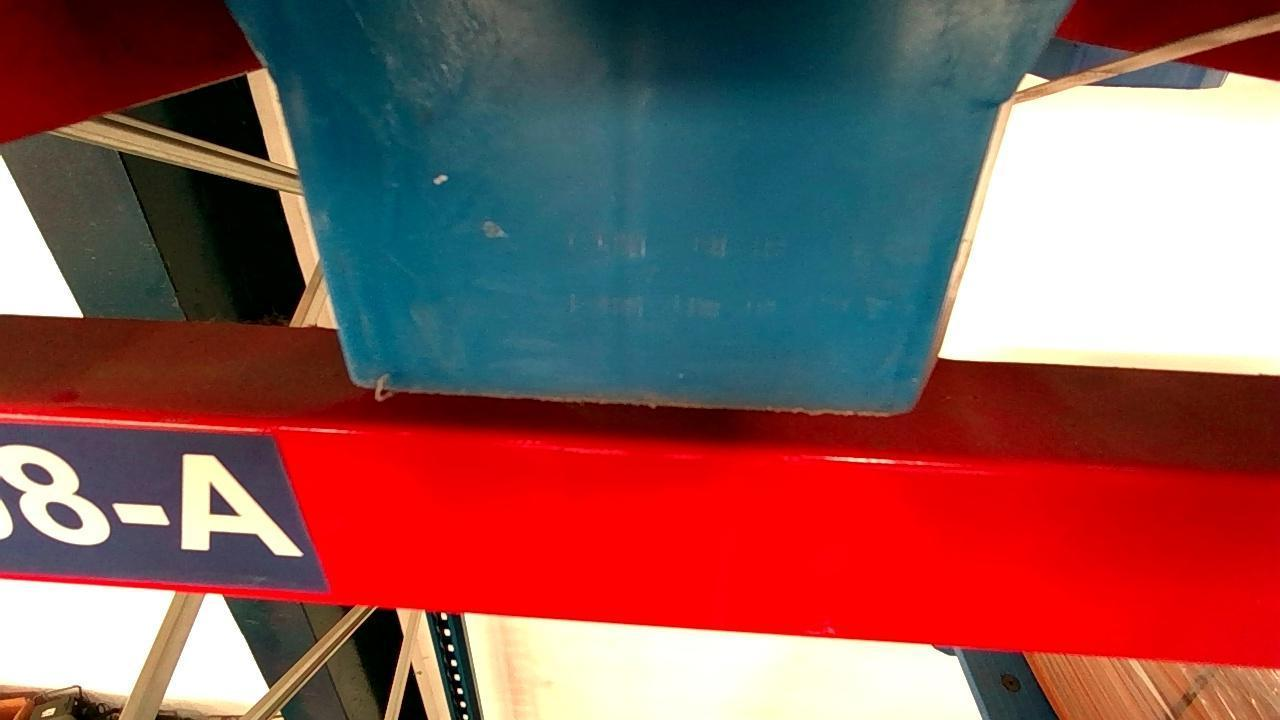h_rack: (0, 418, 1280, 672)
